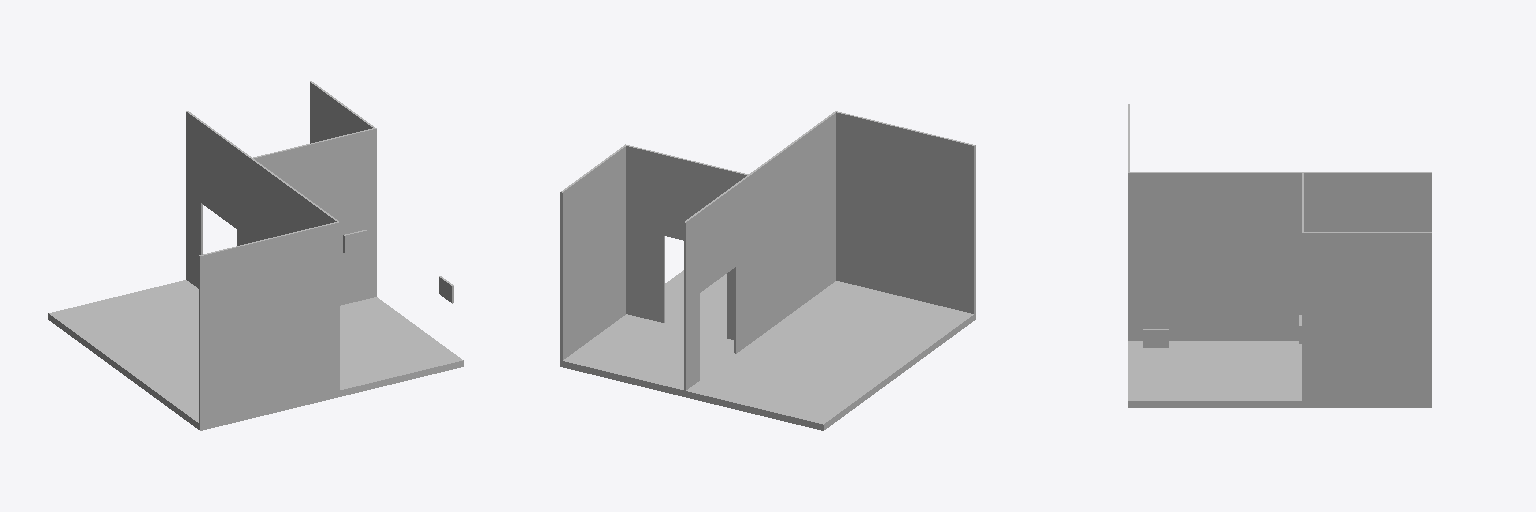
The model's file is 4x4 third-5.obj.
The picture shows the model from 3 angles: view 1: azimuth 30°, elevation 25°; view 2: azimuth 150°, elevation 25°; view 3: azimuth 270°, elevation 25°; orthographic projection.
Parts seen in each view (by area): view 1: 4x4 third-5; view 2: 4x4 third-5; view 3: 4x4 third-5.
Boxes of the visible parts, x1,y1,x2,y2 form: 4x4 third-5: [48, 81, 463, 430]; 4x4 third-5: [560, 111, 975, 430]; 4x4 third-5: [1128, 104, 1431, 407].
Size of the model in its own units: 126 by 80 by 126.